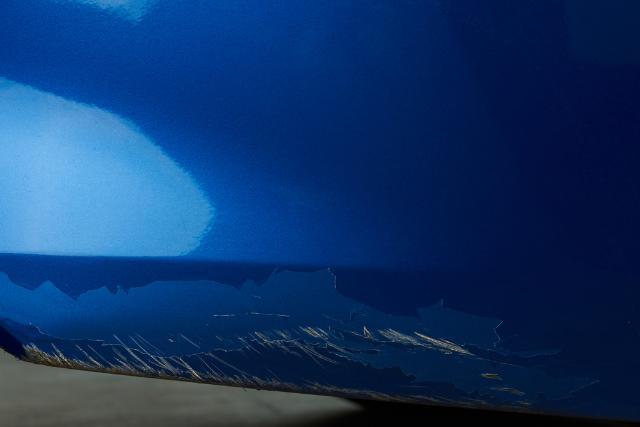scratch: (21, 308, 541, 414)
